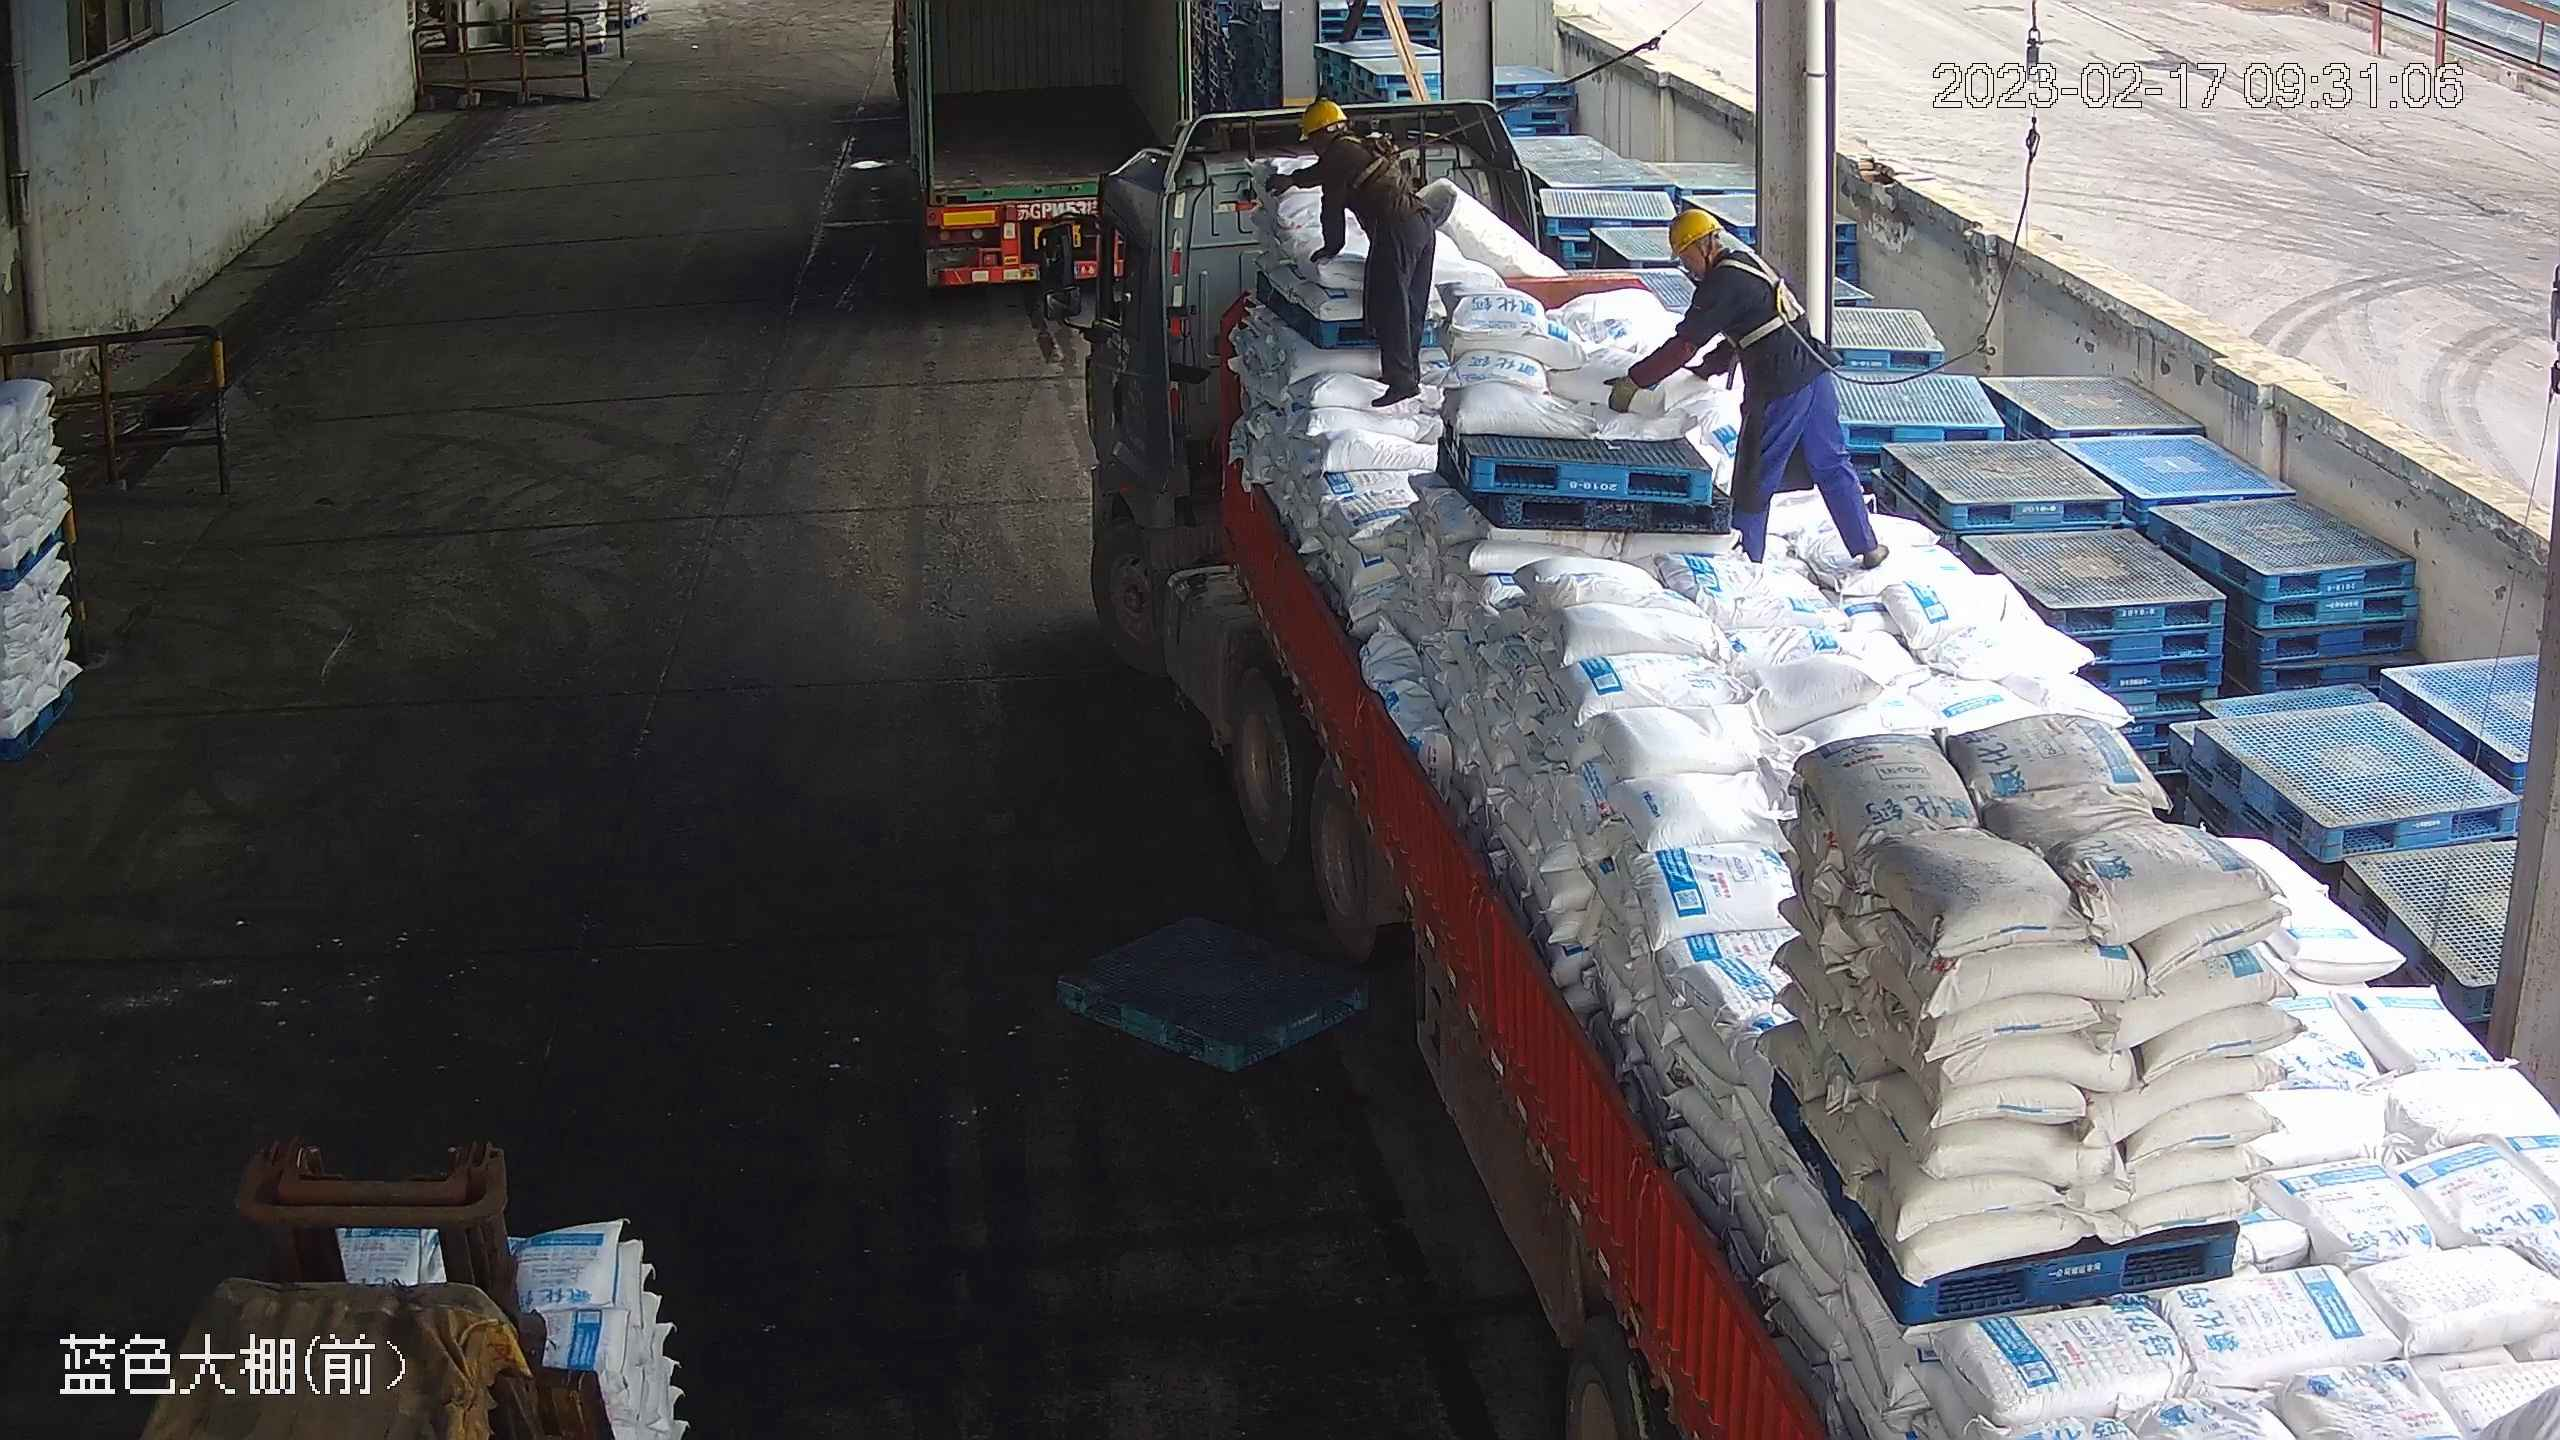belt: (1722, 237, 1815, 350), (1349, 135, 1434, 194)
head: (1661, 205, 1791, 337), (1301, 100, 1400, 189)
helmet: (1666, 201, 1722, 254), (1300, 101, 1347, 139)
people: (1603, 206, 1894, 572), (1264, 93, 1456, 410)
truck: (1037, 93, 2560, 1440), (879, 1, 1201, 330)
